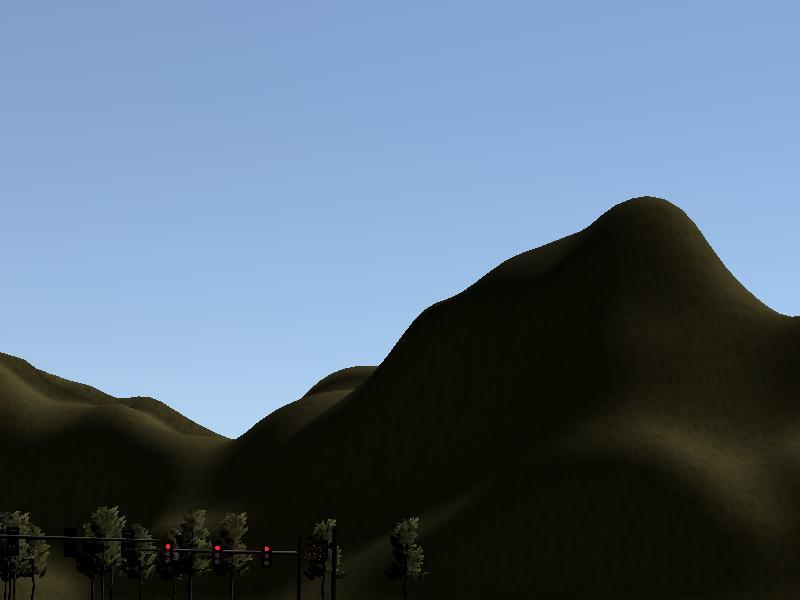Red: (212, 542, 222, 566), (261, 545, 272, 564), (163, 541, 172, 563)
